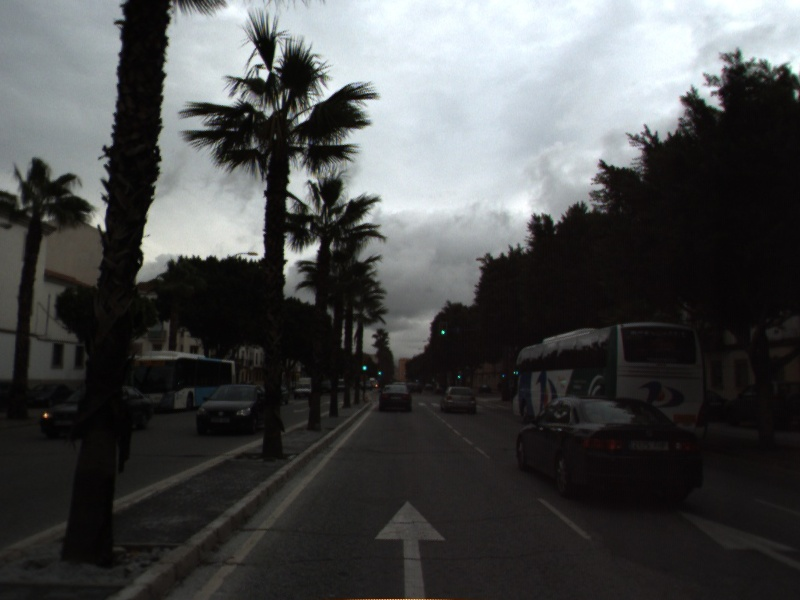STRAIGHT: (371, 496, 450, 600), (675, 507, 800, 572)
